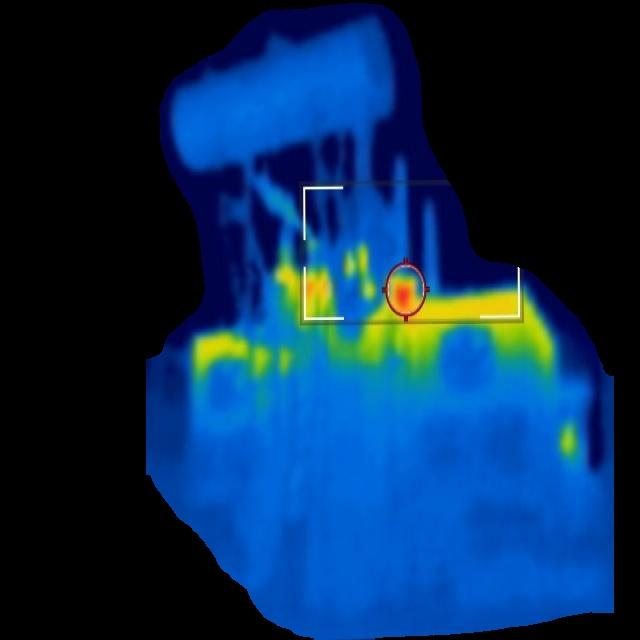Loose Joint F: (388, 275, 422, 309)
Loose Joint PF: (278, 266, 338, 308)
Transformer Overload: (194, 290, 559, 380)
